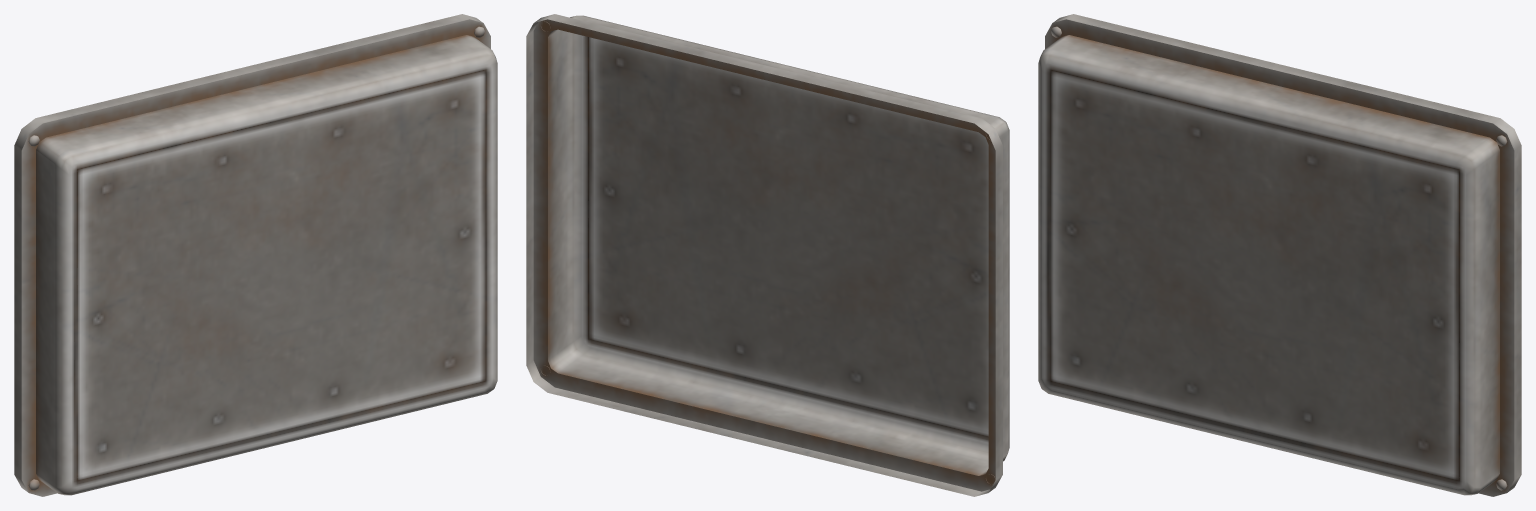
The model's file is vent_closed_01.glb.
3 views of the same model, side by side, from view 1: azimuth 30°, elevation 25°; view 2: azimuth 150°, elevation 25°; view 3: azimuth 330°, elevation 25° (orthographic).
Visible parts, largest first — view 1: modular_airduct_rectangular_01_vent_closed_01.001; view 2: modular_airduct_rectangular_01_vent_closed_01.001; view 3: modular_airduct_rectangular_01_vent_closed_01.001.
Boxes of the visible parts, bbox=[...] form: modular_airduct_rectangular_01_vent_closed_01.001: bbox=[14, 14, 497, 496]; modular_airduct_rectangular_01_vent_closed_01.001: bbox=[526, 14, 1009, 496]; modular_airduct_rectangular_01_vent_closed_01.001: bbox=[1038, 14, 1521, 496].
Bounding box in the file's own units: 0.5521 × 0.42 × 0.0658.
Materials: 1 (1 with a texture image).
